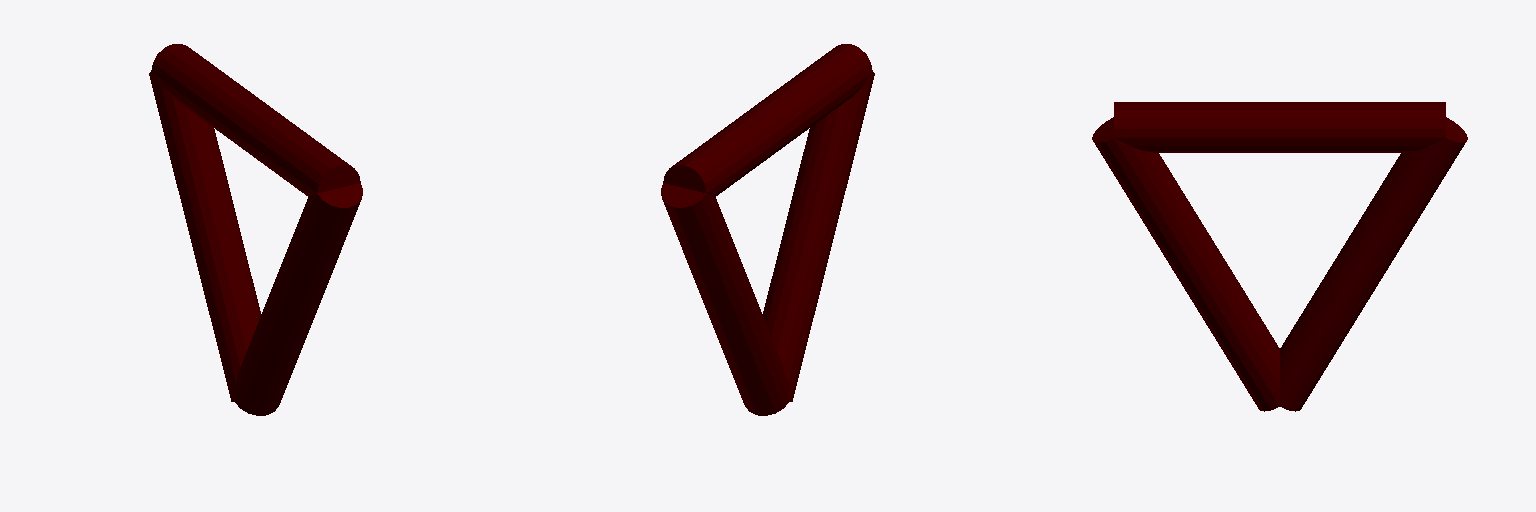
The model's file is tie.obj.
3 views of the same model, side by side, from view 1: azimuth 30°, elevation 25°; view 2: azimuth 150°, elevation 25°; view 3: azimuth 270°, elevation 25° (orthographic).
Size of the model in its own units: 0.1402 by 0.9294 by 1.05.